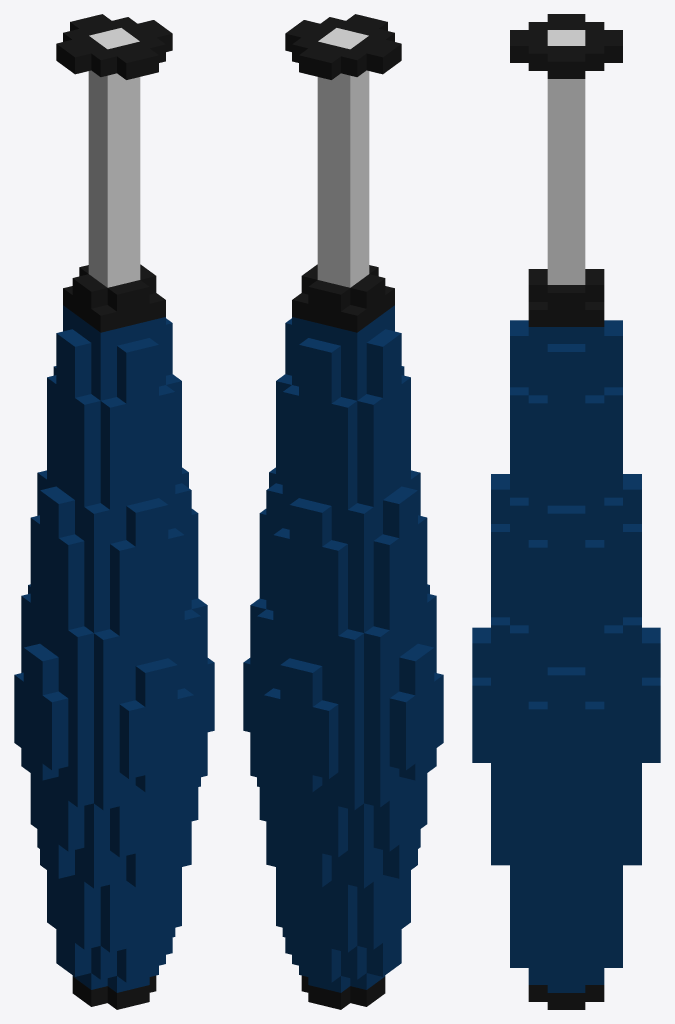
The model's file is sys_balk-2.obj.
The picture shows the model from 3 angles, left to right: view 1: azimuth 30°, elevation 25°; view 2: azimuth 150°, elevation 25°; view 3: azimuth 270°, elevation 25°; orthographic projection.
Bounding box in the file's own units: 1 × 5.6 × 1.
Materials: 1 (1 with a texture image).
